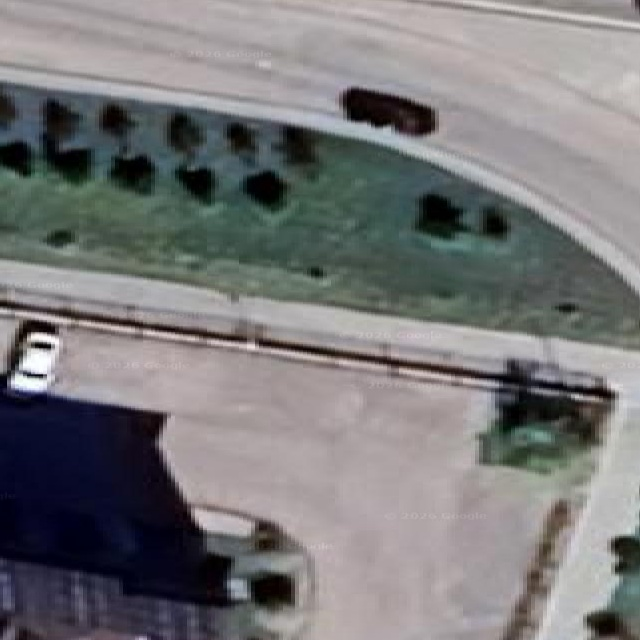car: (340, 87, 437, 135), (7, 331, 60, 396)
